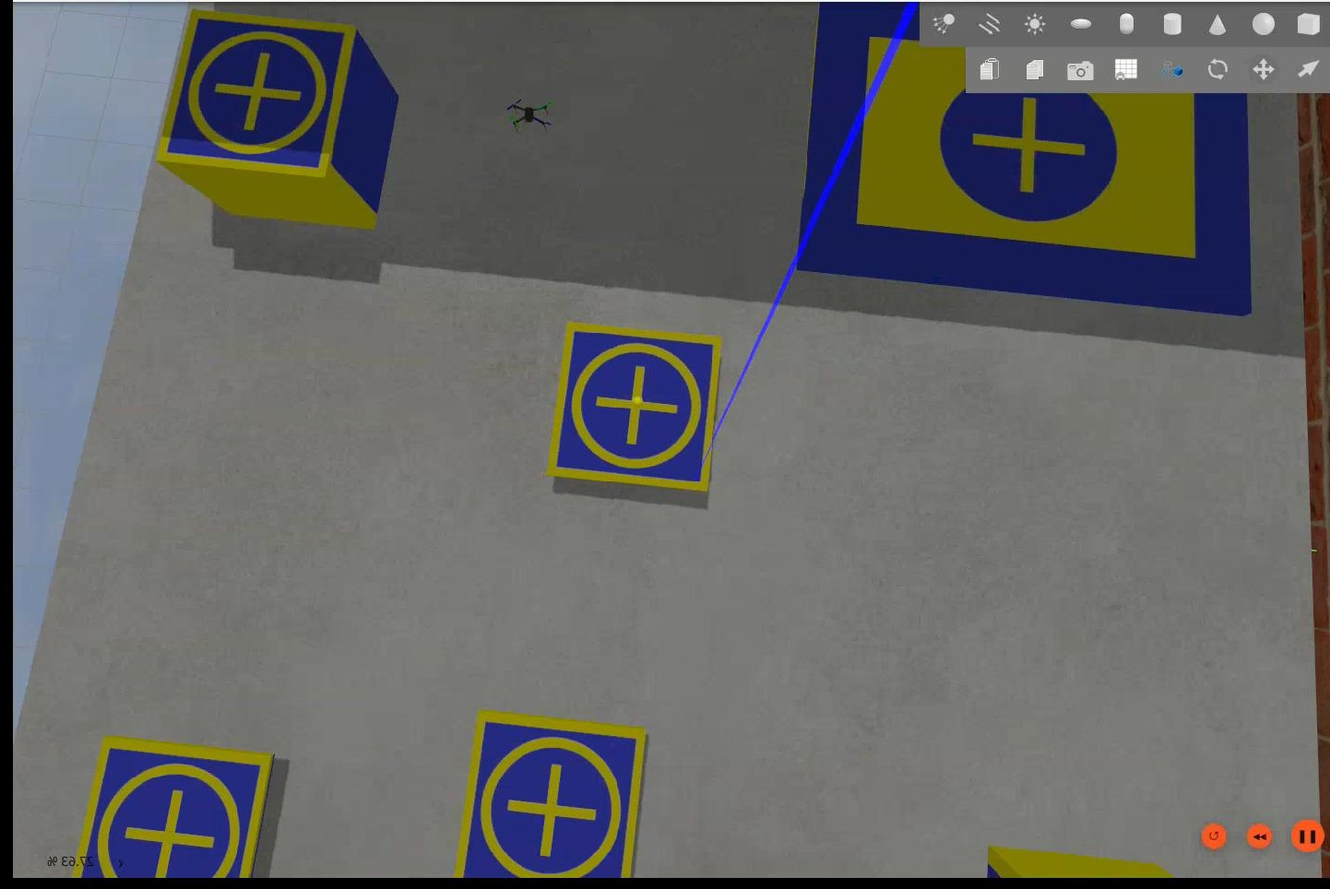large_base: (791, 1, 1252, 317)
small_base: (150, 8, 359, 180), (453, 708, 646, 879), (546, 319, 725, 499), (66, 735, 270, 880)
